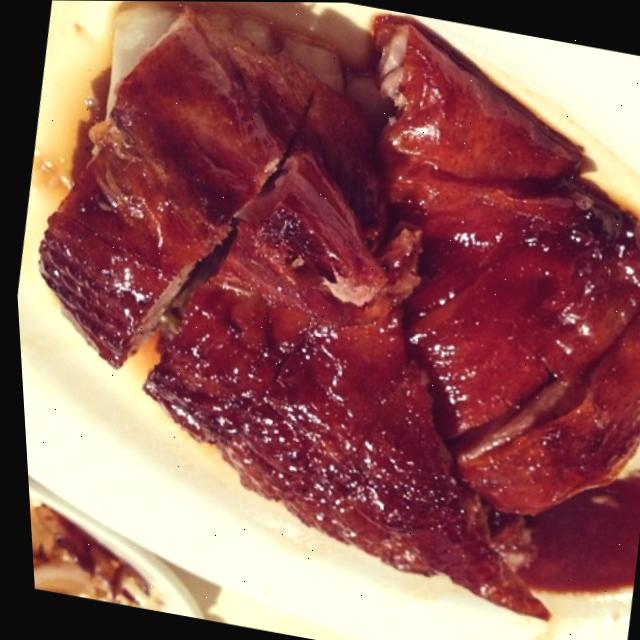烧串烤肉: (0, 0, 640, 631)
